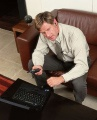male: (31, 12, 64, 43)
